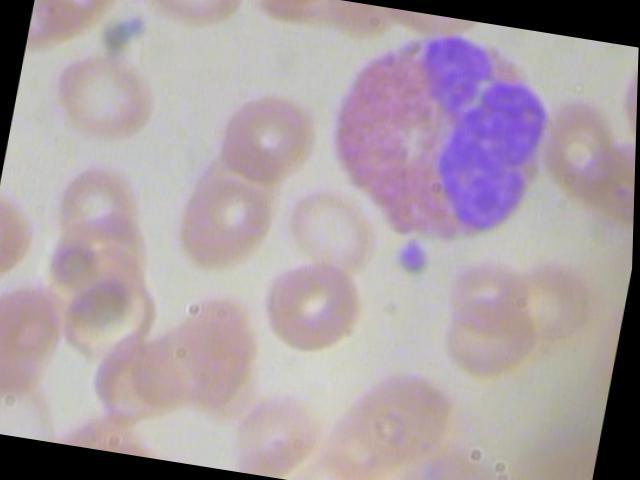Platelets: (392, 233, 445, 279)
Red Blood Cells: (162, 144, 293, 283), (45, 36, 167, 158), (248, 248, 373, 364), (208, 84, 321, 192), (434, 288, 549, 390), (274, 173, 385, 277), (0, 273, 81, 407), (43, 154, 145, 246)
White Blood Cells: (296, 10, 597, 264)
